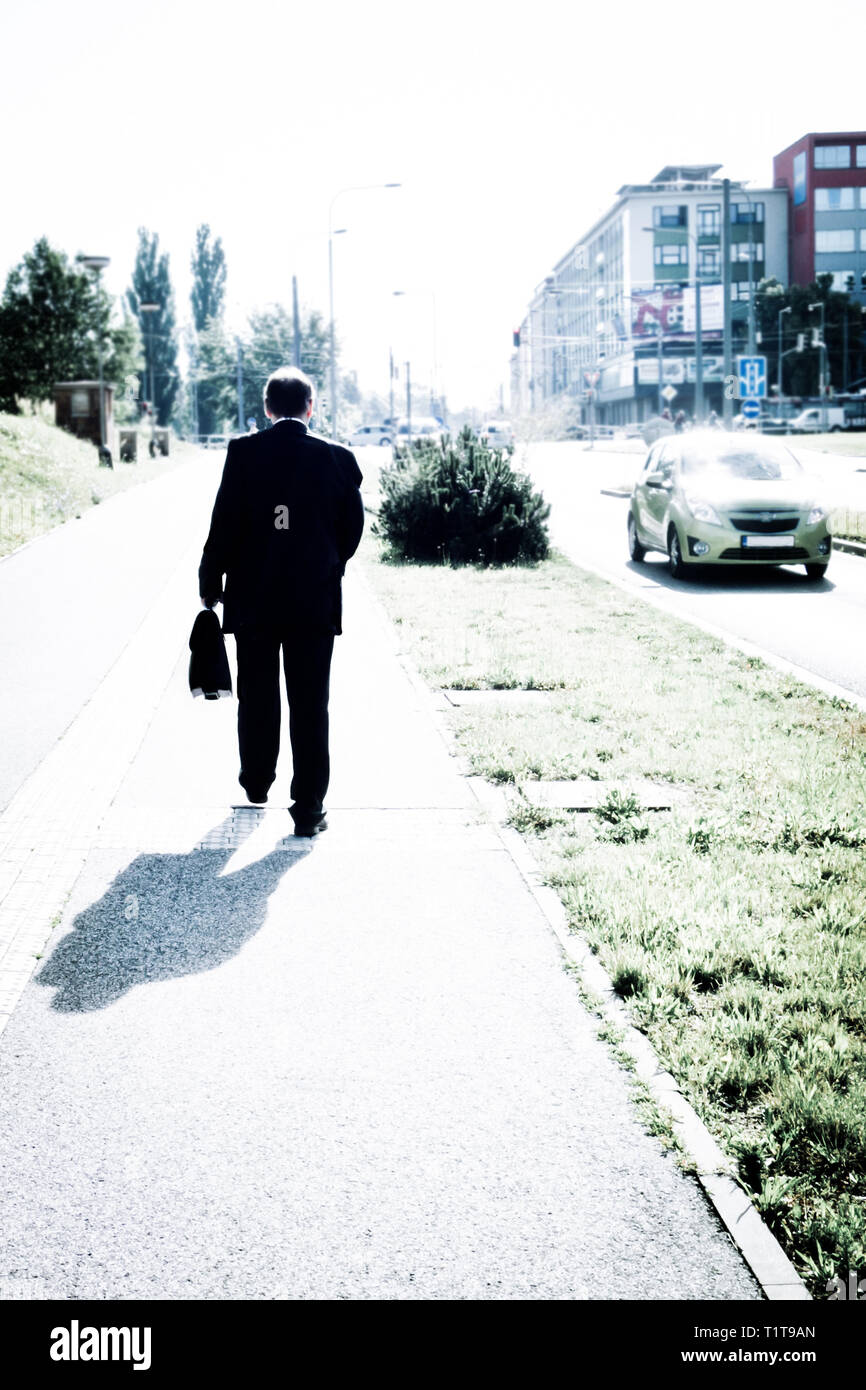car: (624, 426, 844, 596)
person: (183, 357, 368, 842)
